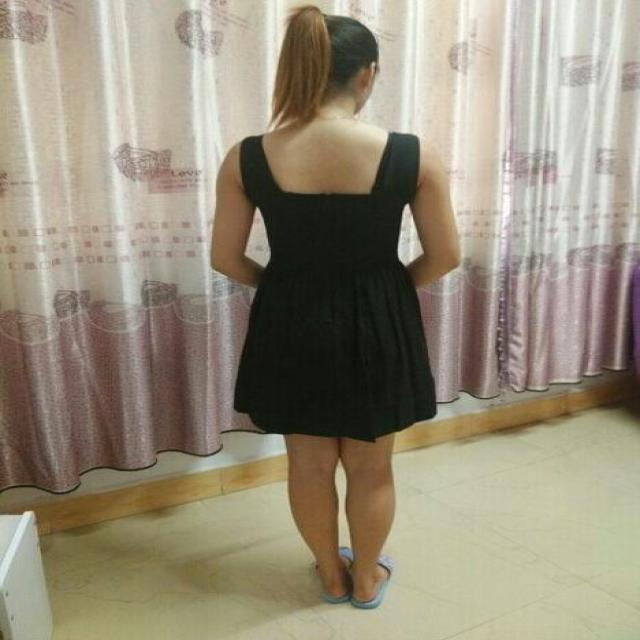short-sleeve-dress: (170, 84, 567, 536)
